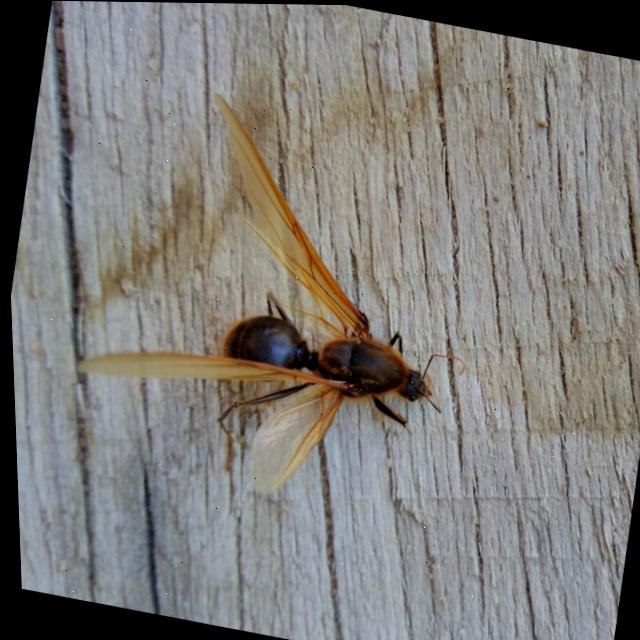Dead-Male-Alate: (50, 72, 507, 527)
